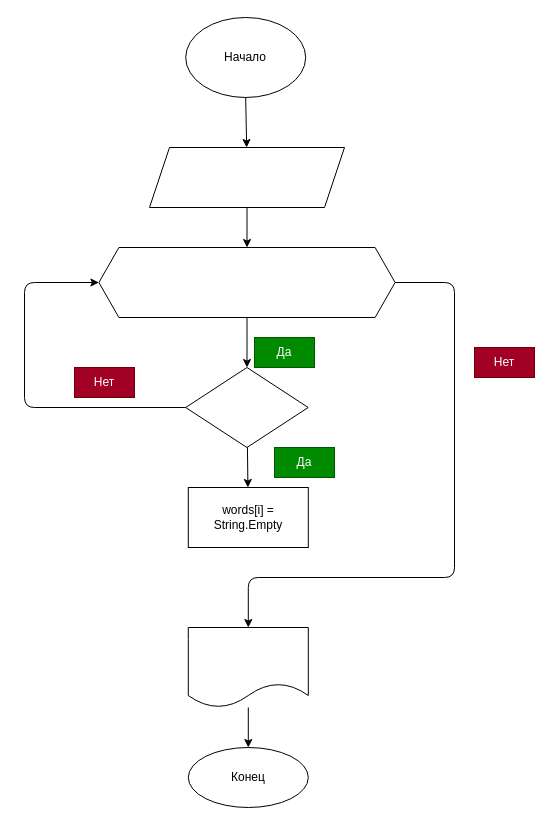
This 552x825 diagram has some shape labels left out. Here are the shapes that lost their labels. From the top down, the centre of each, then its label:
(x=246, y=177): string[] words, WordsLenght = words.Lenght, word = words[i].Lenght
(x=246, y=282): i = 0,WordsLenght,1
(x=246, y=407): word>3
(x=247, y=667): string[] words
